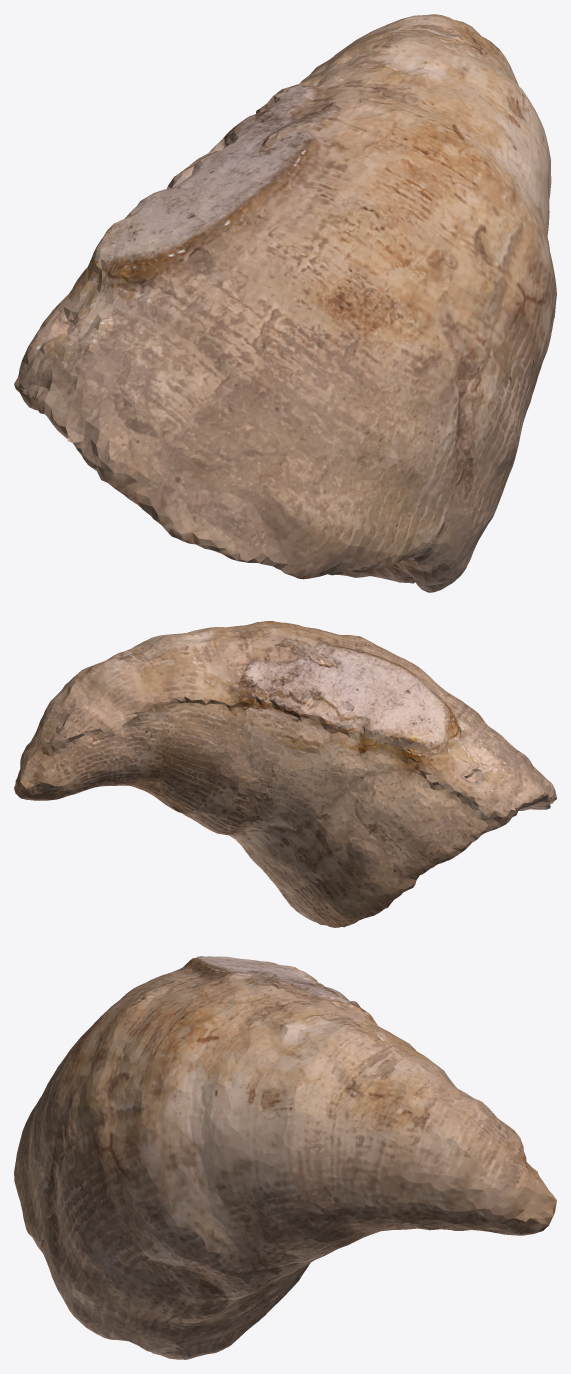
File: small_shell.dae
The picture shows the model from 3 angles, top to bottom: view 1: azimuth 30°, elevation 25°; view 2: azimuth 150°, elevation 25°; view 3: azimuth 270°, elevation 25°; orthographic projection. The views are drawn at different scales.
Parts seen in each view (by area): view 1: node; view 2: node; view 3: node.
Boxes of the visible parts, x1,y1,x2,y2 form: node: (14, 14, 556, 592); node: (14, 621, 556, 927); node: (14, 956, 556, 1359).
Bounding box in the file's own units: 0.2203 × 0.1566 × 0.2054.
Materials: 1 (1 with a texture image).
